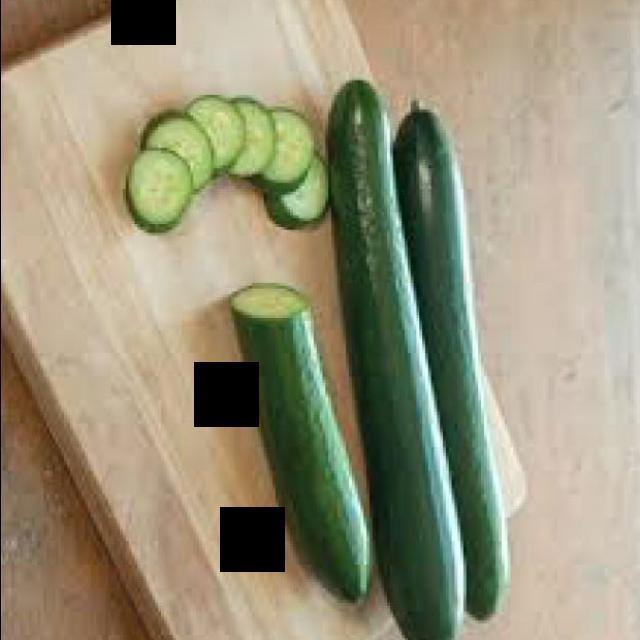cucumber: (334, 71, 466, 640), (392, 83, 516, 621), (224, 280, 374, 610), (136, 110, 212, 196), (186, 91, 245, 180), (124, 148, 192, 224), (260, 100, 316, 186), (266, 162, 328, 232), (228, 92, 274, 174)
